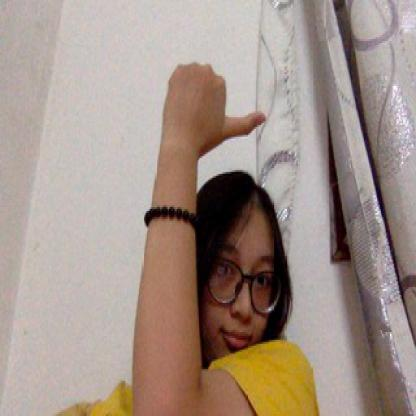left: (157, 61, 266, 166)
